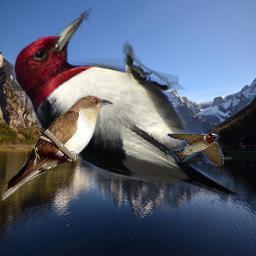Cuckoo: (2, 94, 113, 201)
Swallow: (166, 133, 224, 166)
Woodpecker: (1, 8, 253, 199)
